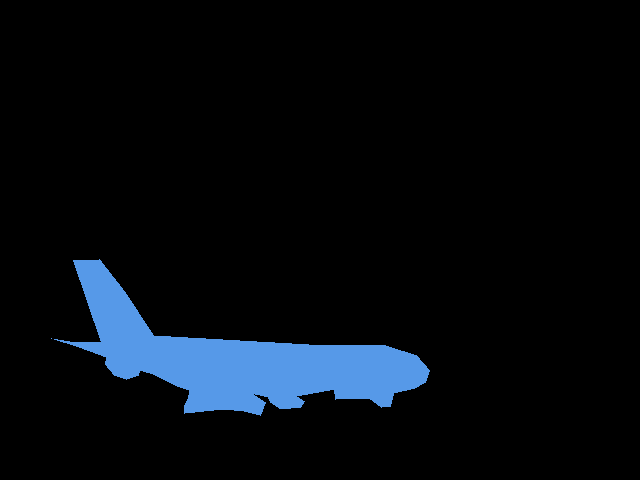Airplane: (51, 259, 430, 416)
